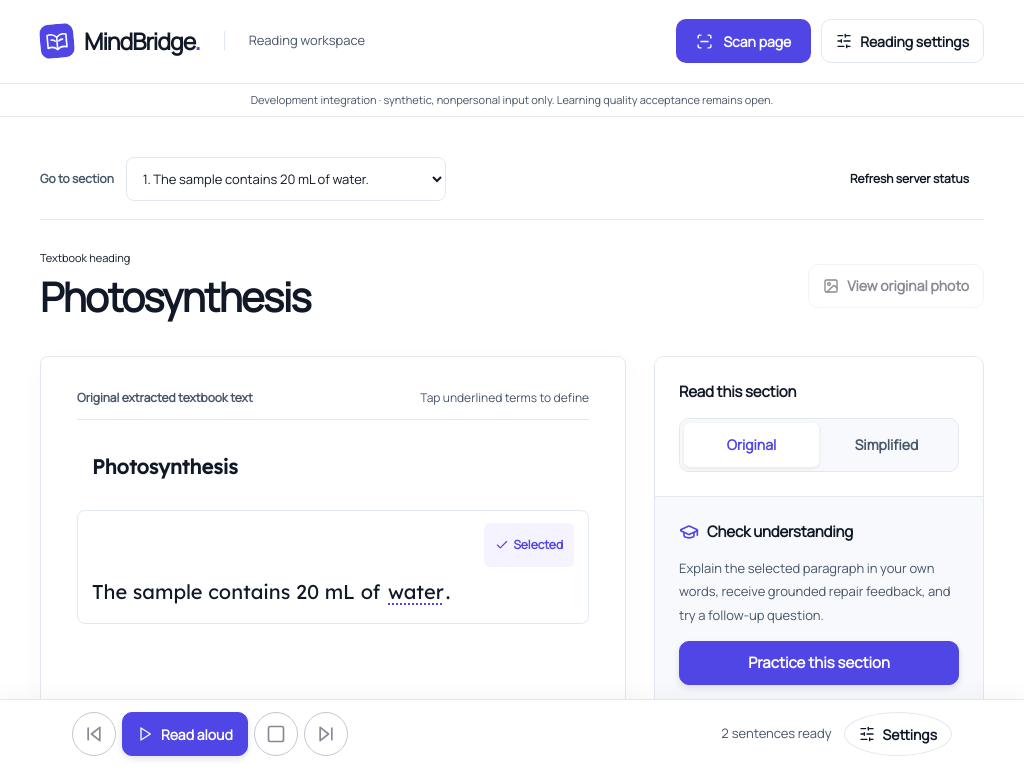
Scenario: Glossary, Simplify, and SourceLens › simplifies selected chunk on demand and displays FactGuard warnings in SourceLens
Click the radio button labelled "Simplified": [886, 445] box [819,423,954,467]
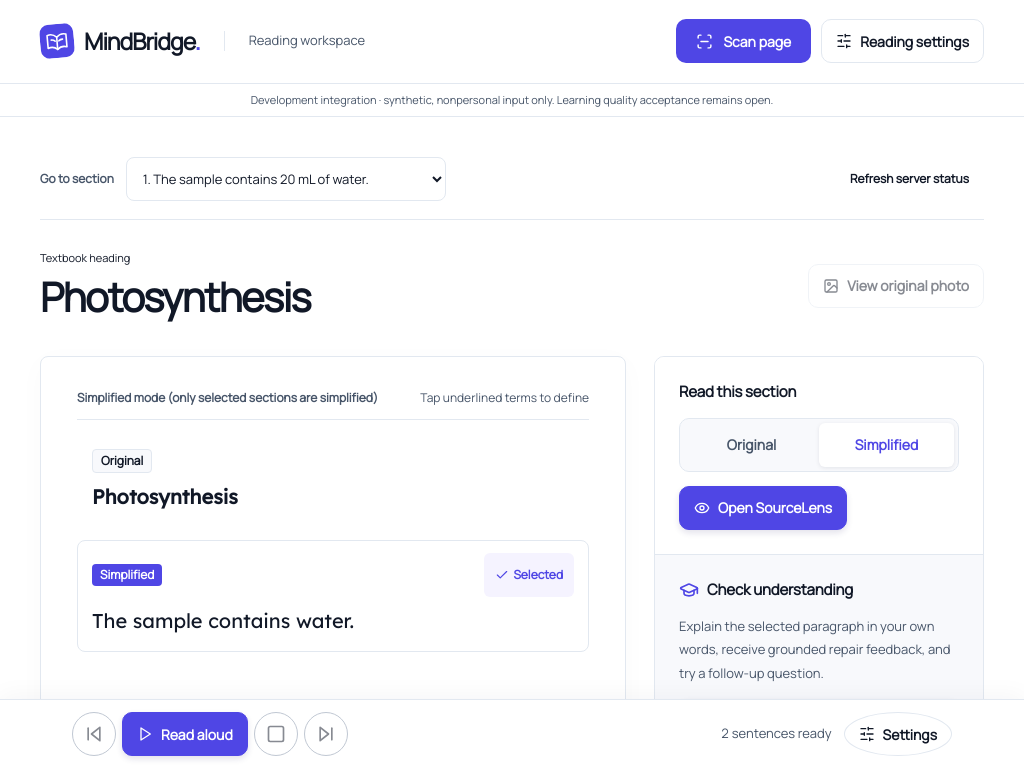
Check: the text "The sample contains water." is shown, box [92,608,354,633]
Click the button "Open SourceLens": [763, 508] box [679,486,847,530]
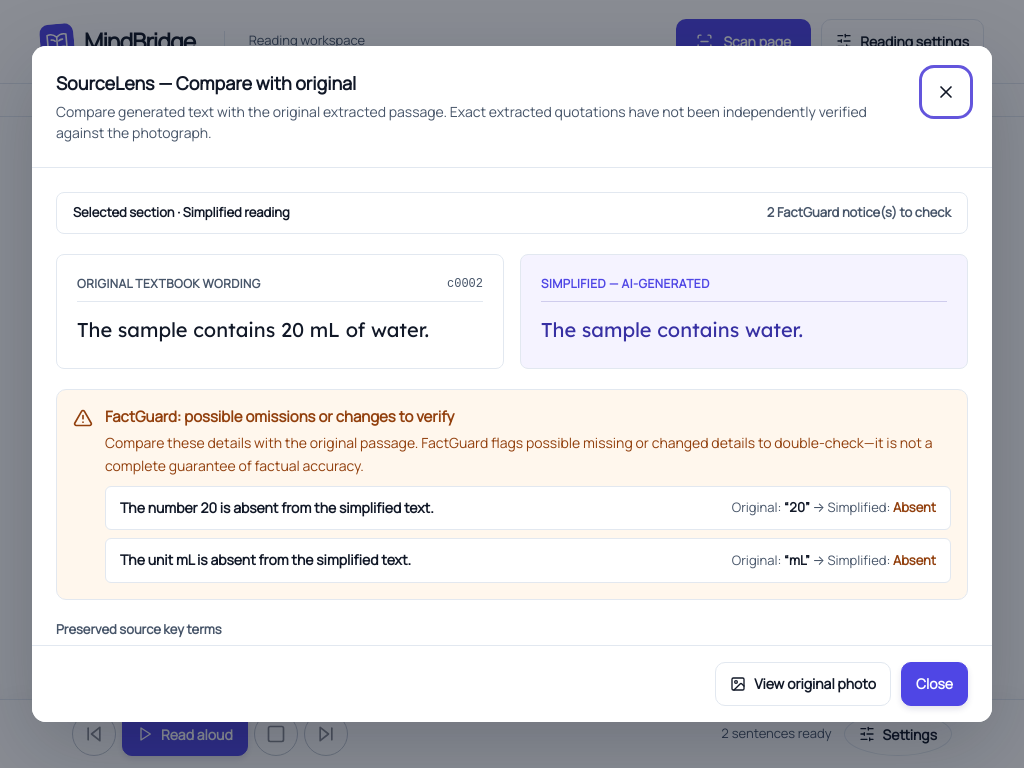
Check: the text "FactGuard: possible omissions or changes to verify" is shown, box [105,406,454,427]
Check: the text "The number 20 is absent from the simplified text." is shown, box [120,497,434,519]
Check: the text "The unit mL is absent from the simplified text." is shown, box [120,549,411,572]
